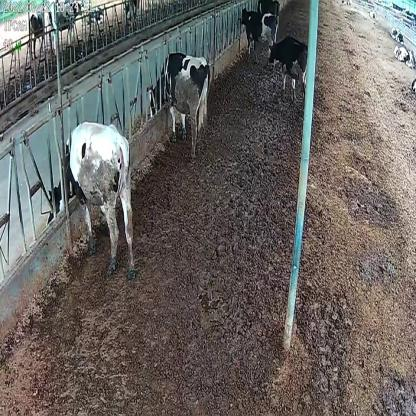cow: (46, 119, 134, 273), (148, 51, 212, 159), (269, 37, 310, 102), (240, 6, 278, 61)
